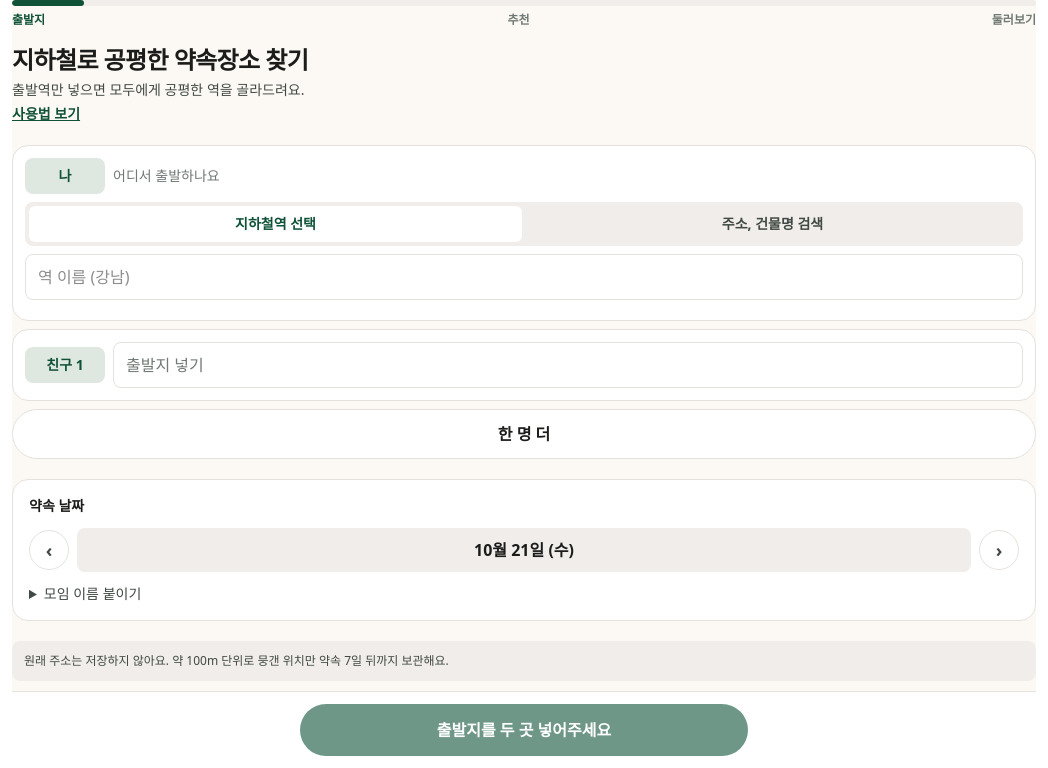
Test: 내 출발지만 넣으면 링크로 친구를 부르는 길이 나오고, 누르면 방을 만들어 참여 화면으로 보낸다
Expected: the button "친구에게 링크 보내서 각자 넣기" is not shown
Type "강남" into the field named "출발지 검색". click: (524, 277)
box: [25,254,1023,300]
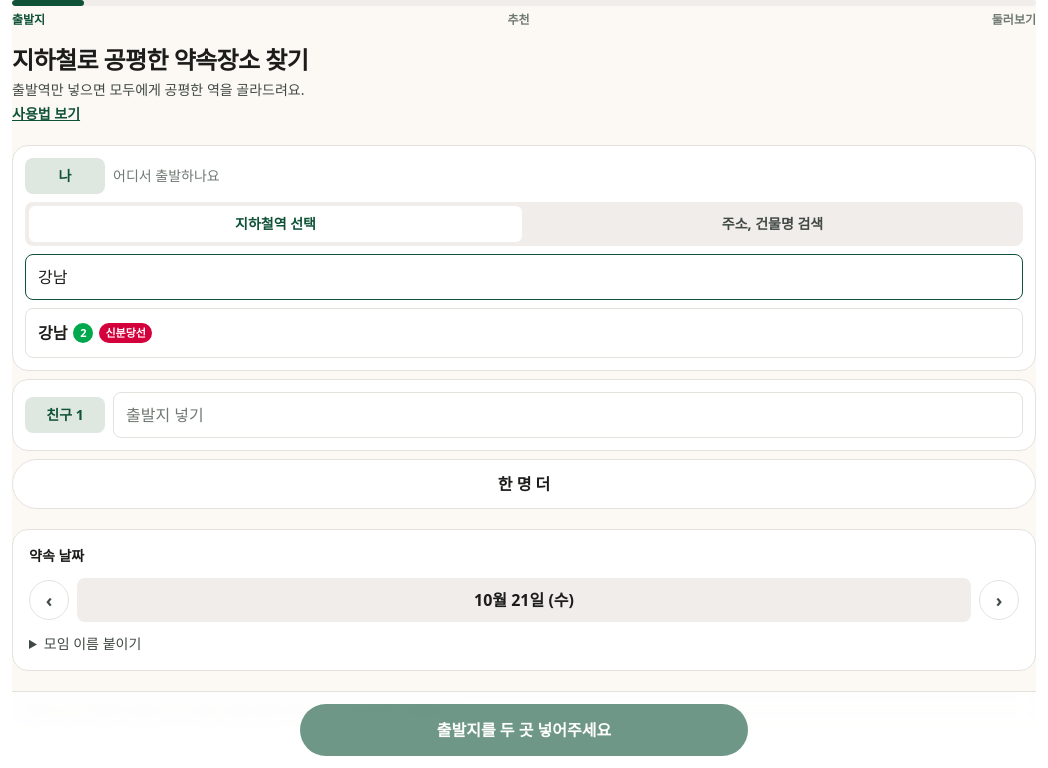
Click the button "강남 2 신분당선". click: (126, 333)
box: [25,308,1023,358]
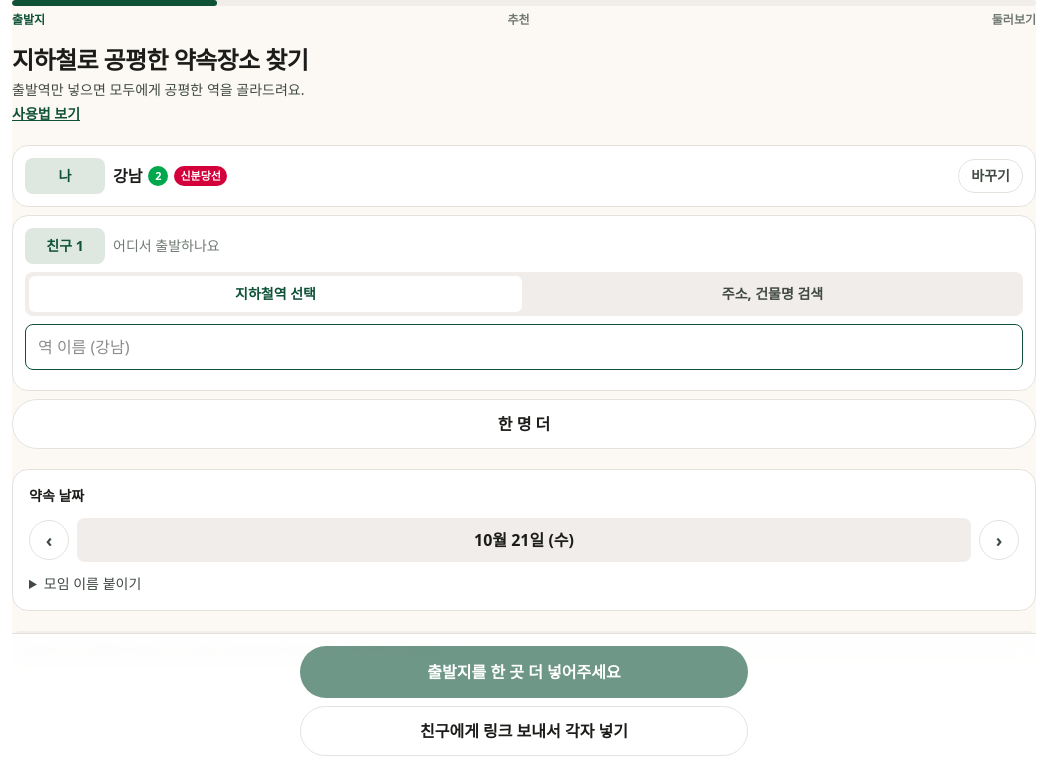
Click the button "친구에게 링크 보내서 각자 넣기". click: (524, 731)
box: [300,706,748,756]
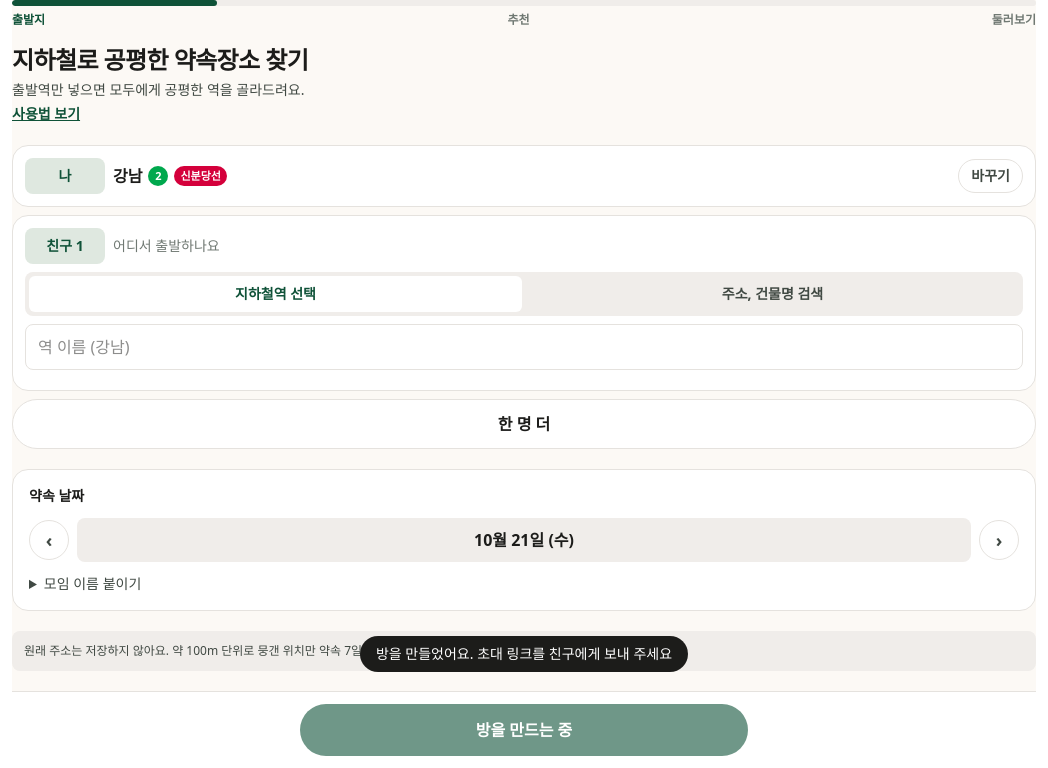
Expected: the message reads "방을 만들었어요. 초대 링크를 친구에게 보내 주세요", [376,644,672,663]
